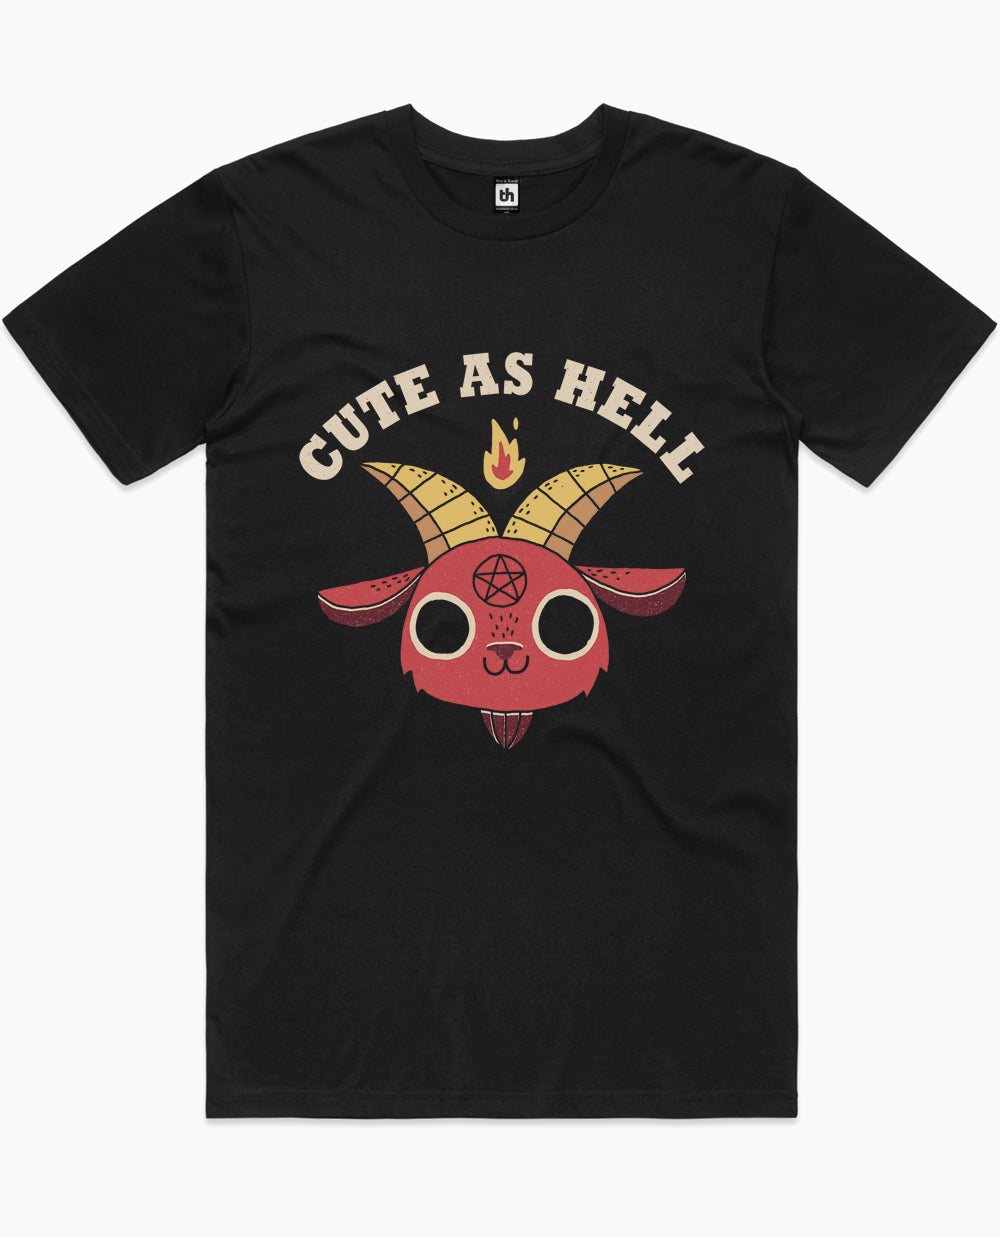design: (292, 346, 714, 757)
